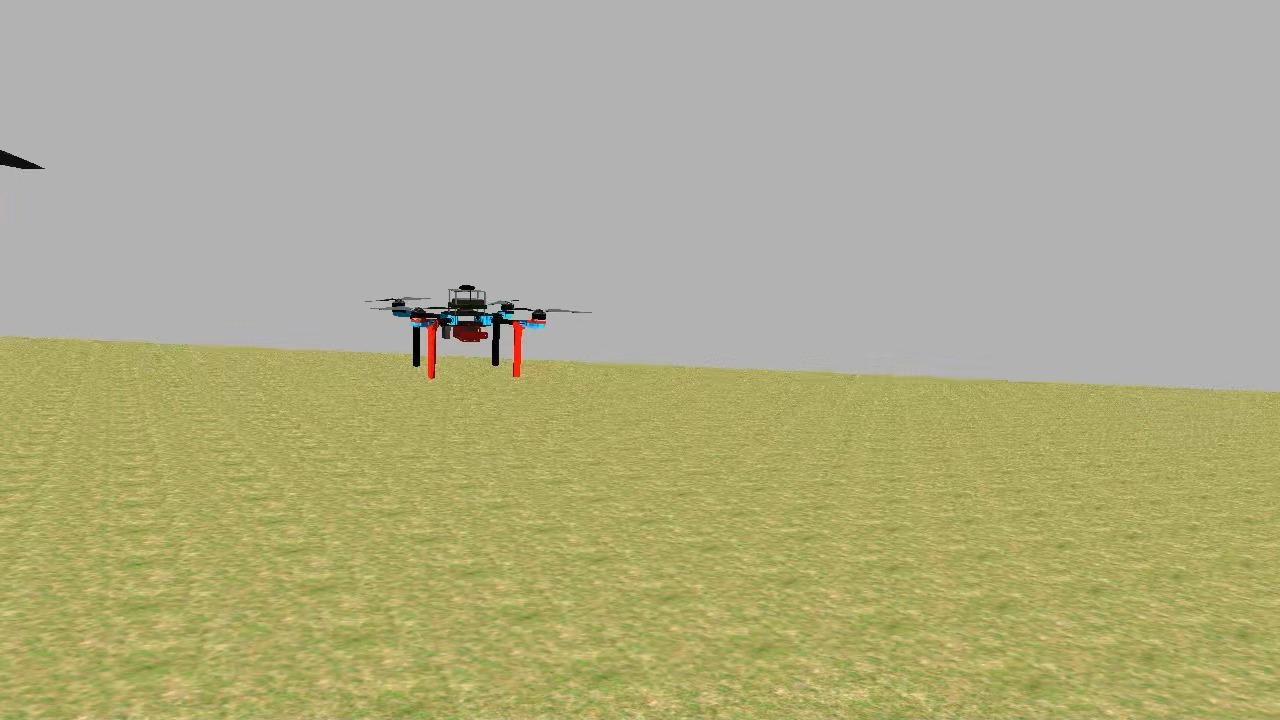UAV: (384, 282, 548, 380)
